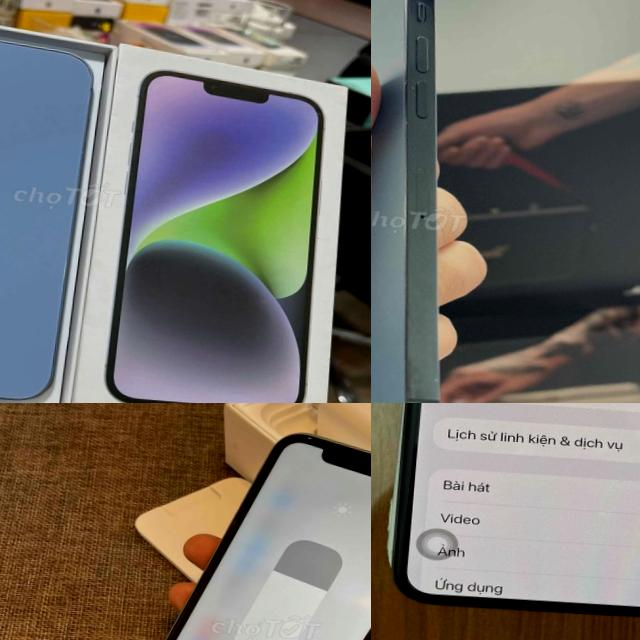gen_11: (390, 403, 640, 615), (164, 433, 371, 640)
gen_12_13: (371, 0, 476, 403)
gen_14: (0, 18, 91, 403)
